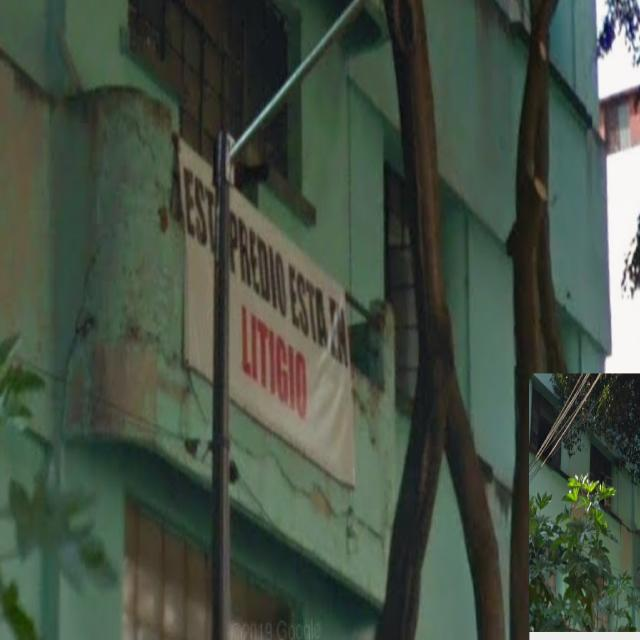stamps: (181, 145, 353, 483)
